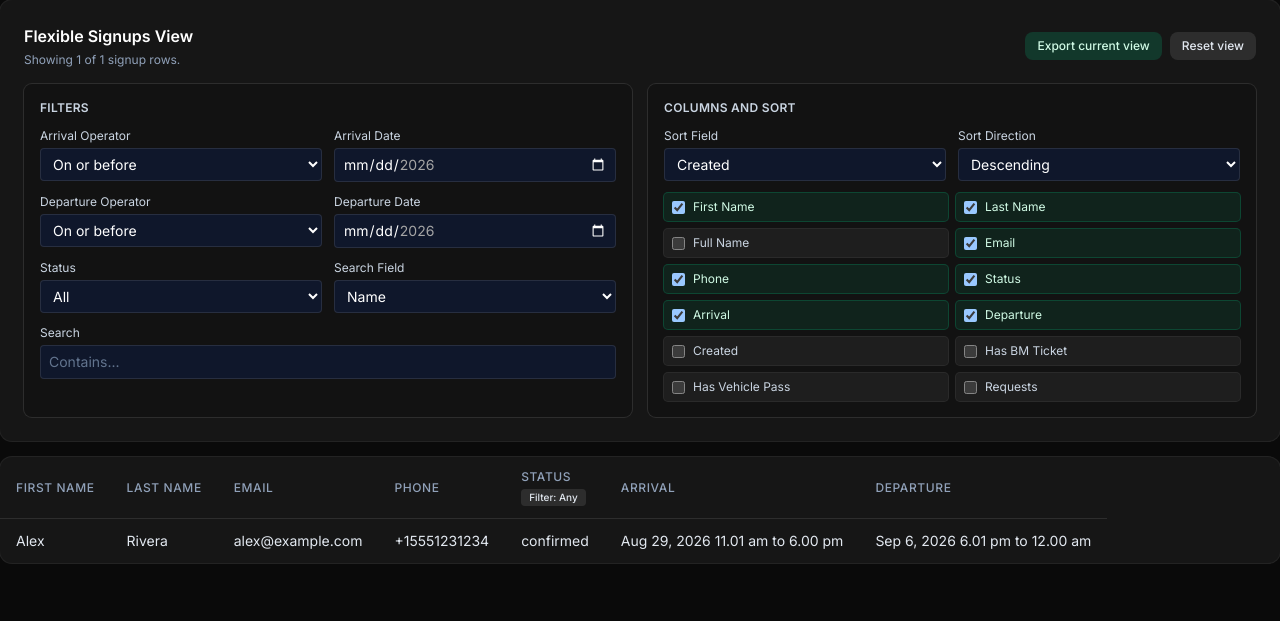
Test case: ExportSignupsTable view controls › keeps header filter controls visible when current filters return zero rows
This screenshot has width=1280, height=621.
Click the checkbox named "Show Requests".
click(970, 387)  # box [964,380,977,394]
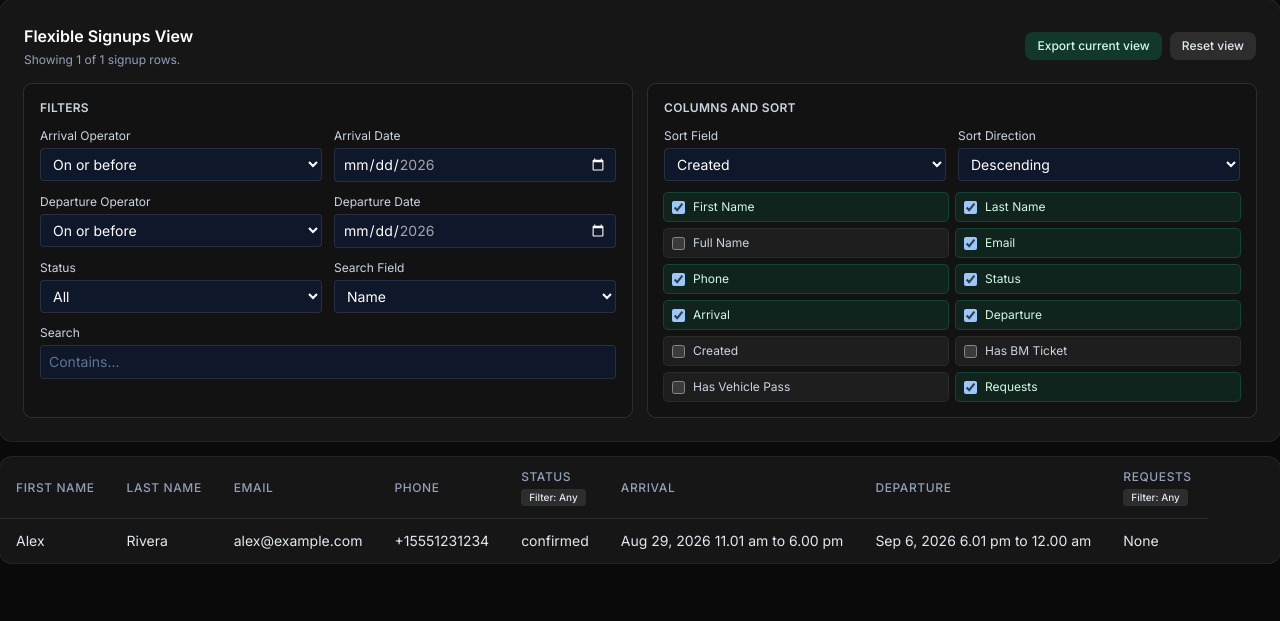
Click the button with aria-label "Filter Requests: Any".
click(1156, 498)  # box [1123,489,1188,506]
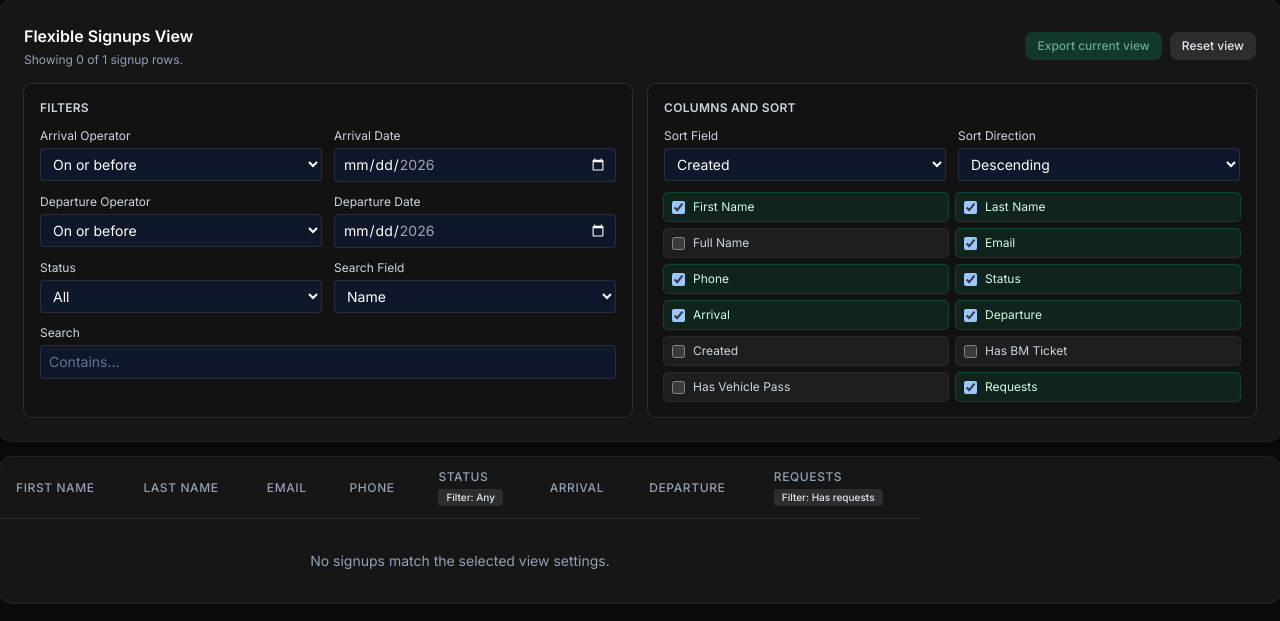
Expected: the table is shown, [0,457,920,603]
Expected: the text "No signups match the selected view settings." is shown, [0,519,920,603]
Expected: the button with aria-label "Filter Requests: Has requests" is shown, [774,489,882,506]
